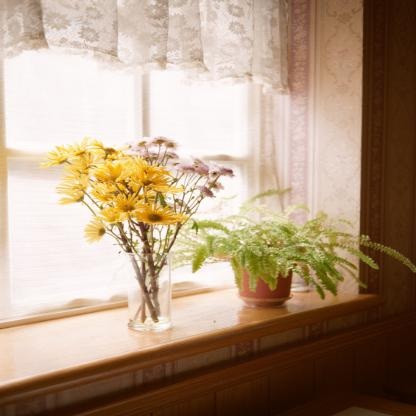vase: (120, 250, 171, 331)
